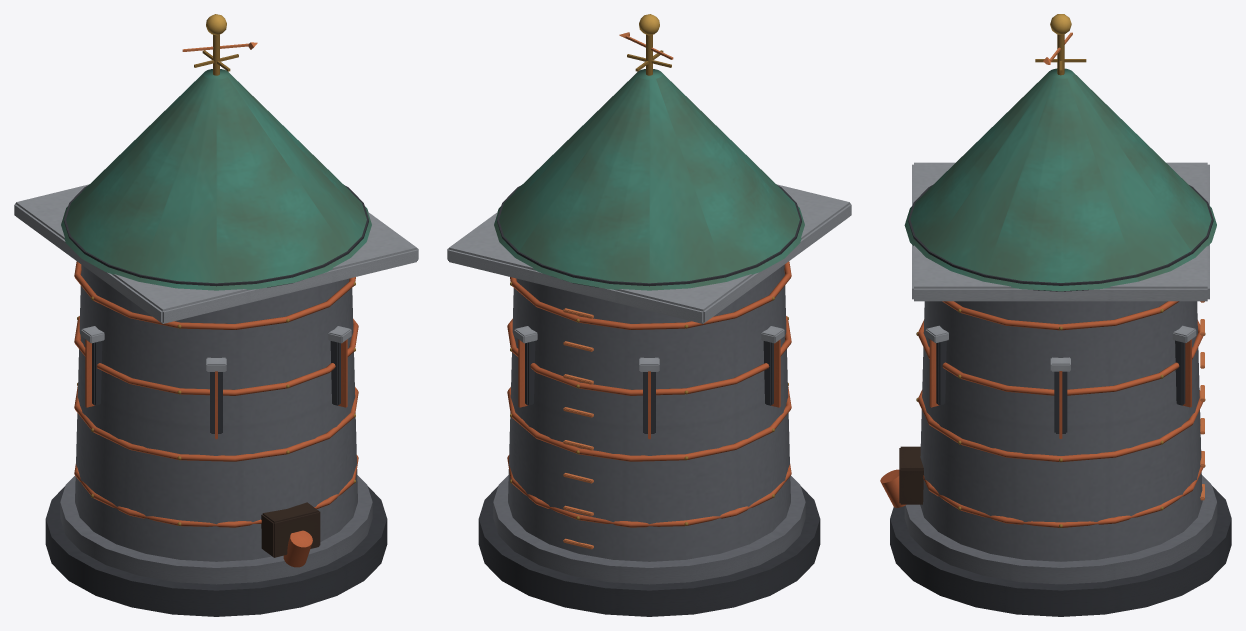
The model's file is granary_silo_stone.glb.
The picture shows the model from 3 angles, left to right: view 1: azimuth 30°, elevation 25°; view 2: azimuth 150°, elevation 25°; view 3: azimuth 270°, elevation 25°; orthographic projection.
Parts seen in each view (by area): view 1: granary_silo_stone; view 2: granary_silo_stone; view 3: granary_silo_stone.
Boxes of the visible parts, box(x1,y1,x2,y2) form: granary_silo_stone: box(14, 14, 418, 616); granary_silo_stone: box(447, 14, 851, 616); granary_silo_stone: box(880, 14, 1231, 616).
Bounding box in the file's own units: 4.7 × 8.05 × 4.84.
1 material, 1 textured.
